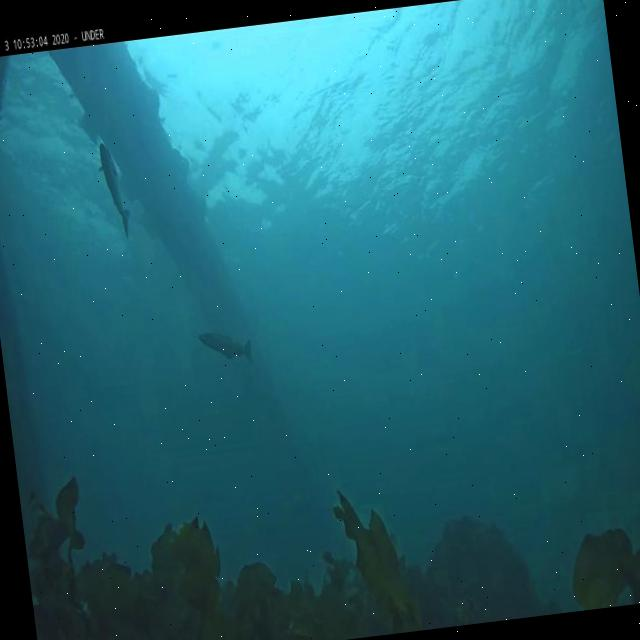fish: (95, 134, 134, 238), (196, 322, 256, 372)
